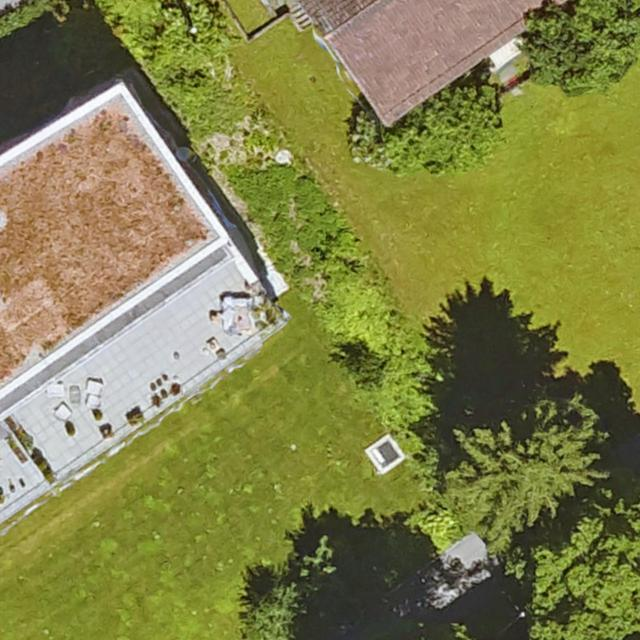tree: (415, 390, 609, 535), (520, 487, 640, 640), (341, 78, 503, 174), (509, 0, 640, 97), (139, 0, 238, 88), (233, 565, 324, 640)
